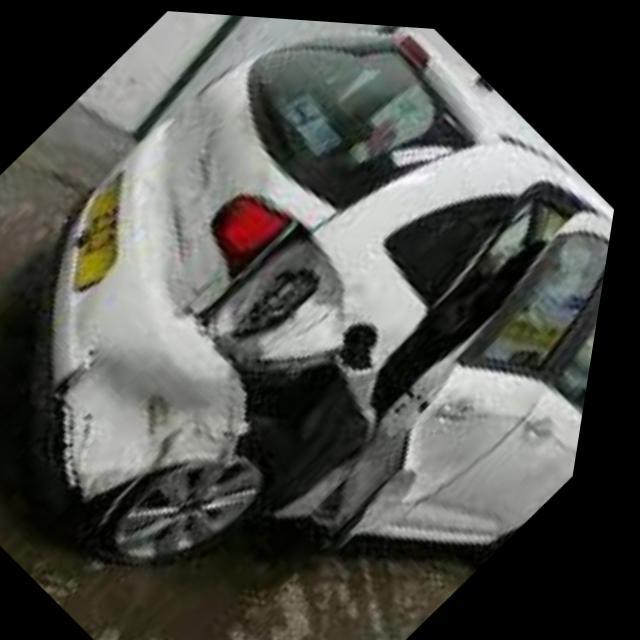dislocated part: (63, 163, 616, 542)
